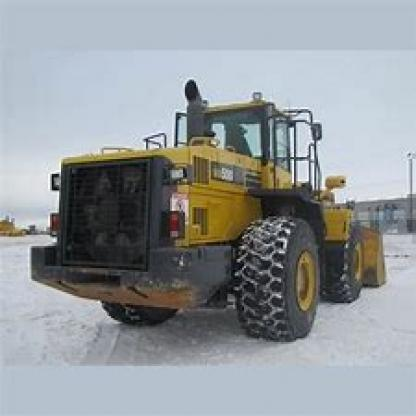bull_dozer/loader/grader: (26, 68, 407, 352)
